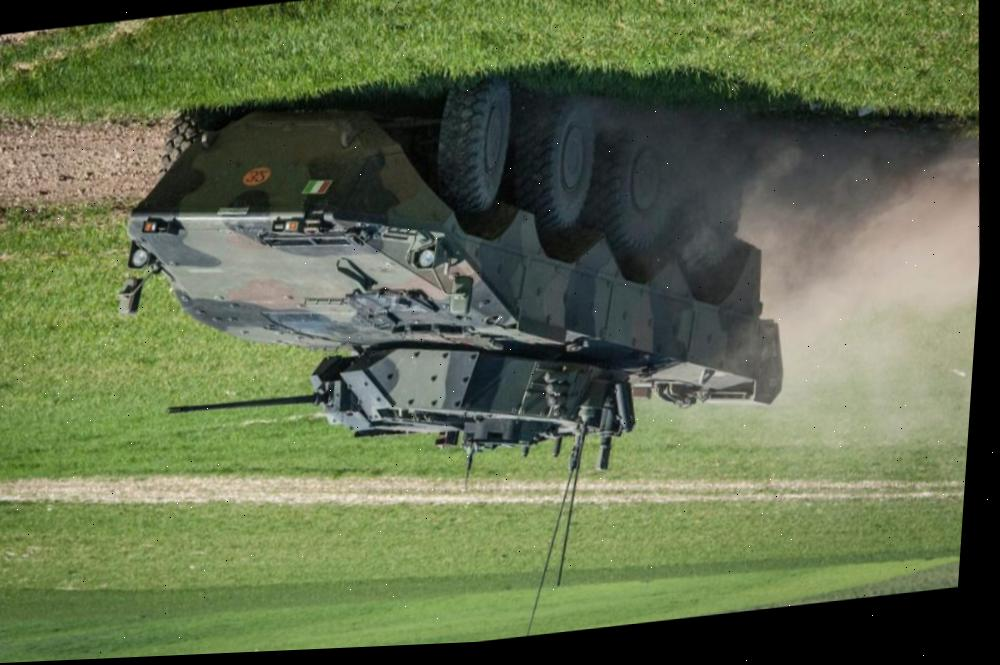tank: (88, 39, 810, 527)
